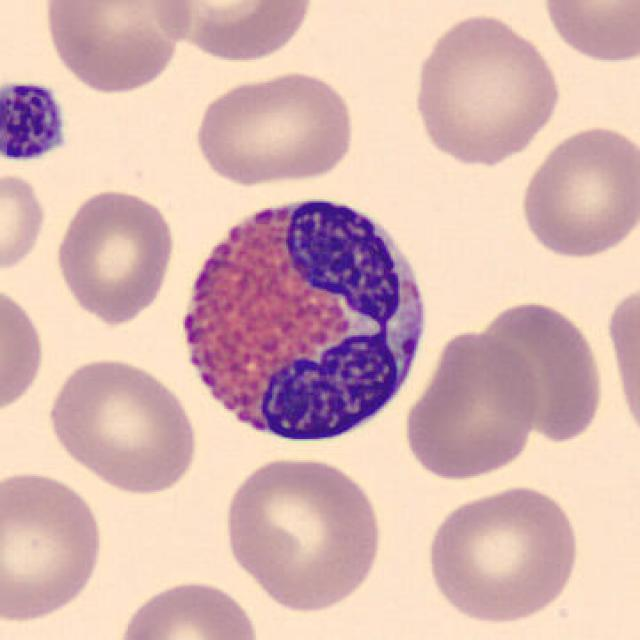Eosinophil: (165, 176, 439, 460)
Platelets: (0, 74, 71, 166)
RBC: (218, 453, 388, 614), (407, 9, 564, 169), (421, 481, 583, 626), (400, 324, 546, 483), (43, 352, 201, 496), (189, 67, 359, 189), (471, 296, 608, 446), (51, 185, 178, 326), (0, 465, 107, 626), (516, 120, 636, 263), (39, 0, 194, 95), (147, 0, 320, 63), (112, 575, 263, 640), (0, 278, 48, 422), (537, 0, 640, 67), (604, 277, 640, 451), (0, 168, 50, 278)
